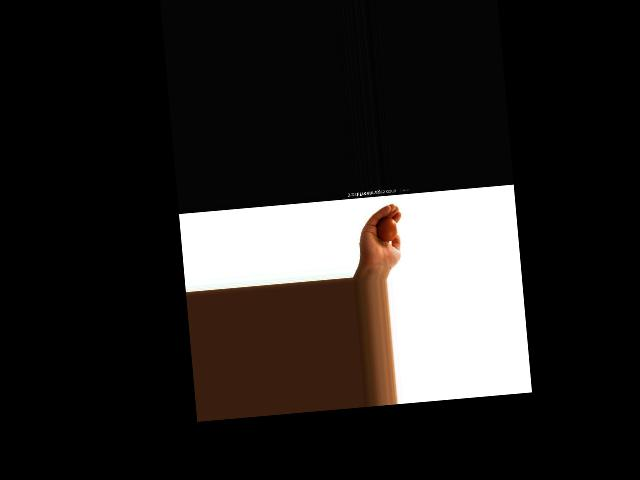egg: (376, 214, 397, 242)
